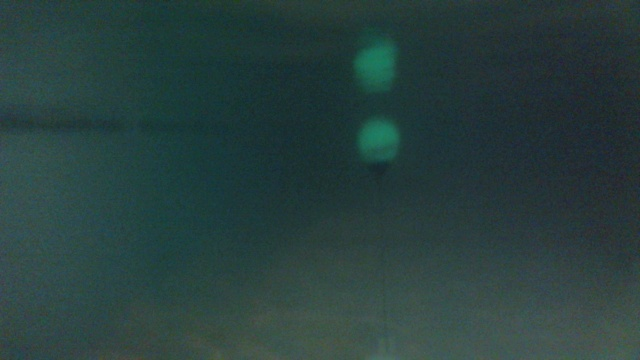buoy_green: (354, 110, 402, 181)
